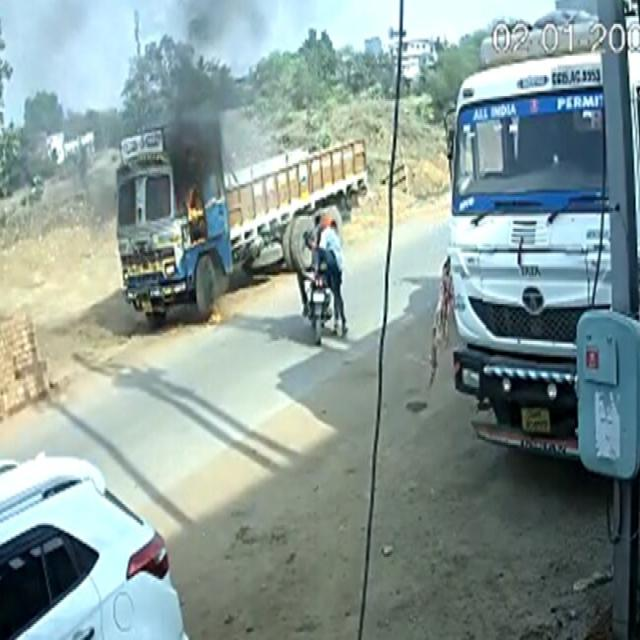accident: (116, 116, 366, 319)
truck: (449, 10, 611, 455)
